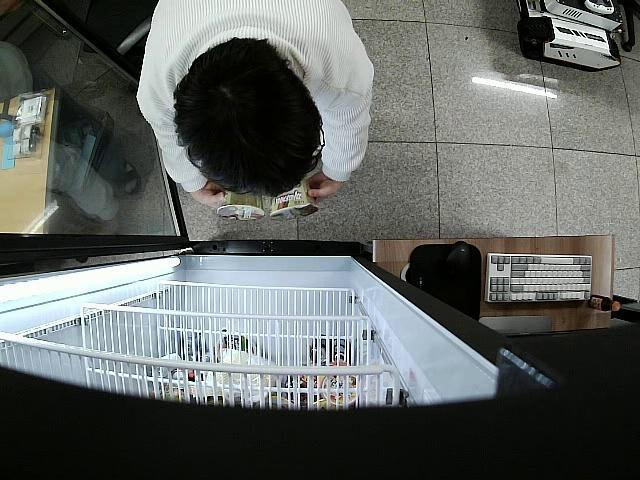03_chapagetti_L: (270, 179, 318, 220), (216, 191, 266, 220)
